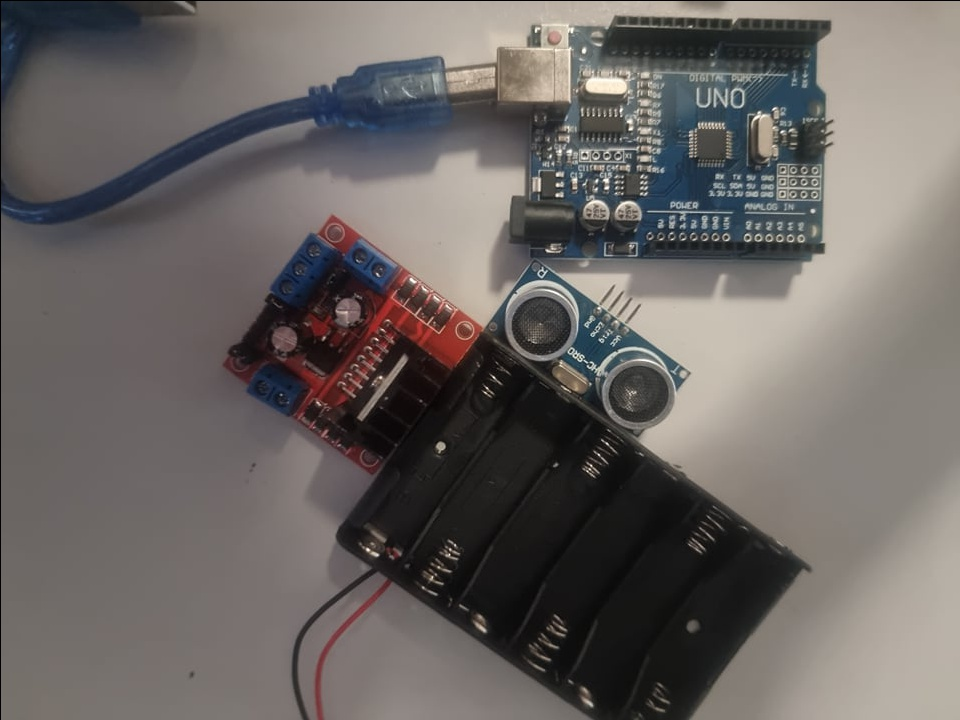BATTERY BOX: (335, 352, 817, 718)
MOTOR: (222, 214, 483, 469)
SENSOR: (495, 257, 690, 433)
UNO R3: (493, 7, 831, 265)
